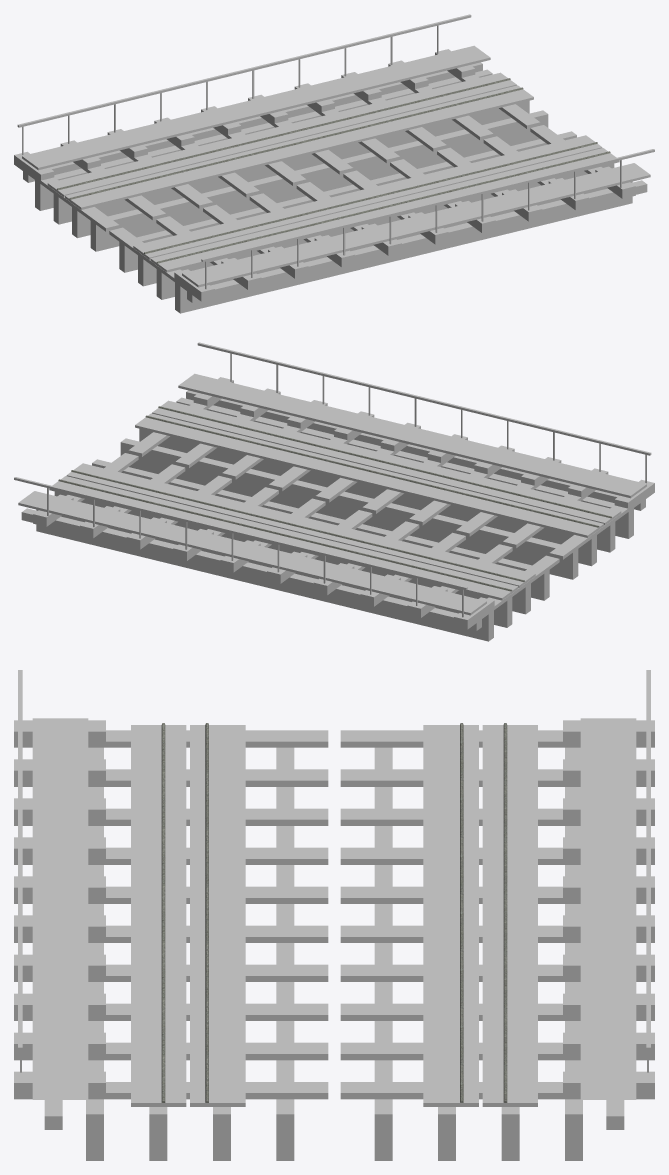
The model's file is DT_Railbridge_Straight_01.fbx.
The picture shows the model from 3 angles, top to bottom: view 1: azimuth 30°, elevation 25°; view 2: azimuth 150°, elevation 25°; view 3: azimuth 270°, elevation 25°; orthographic projection. The views are drawn at different scales.
Parts seen in each view (by area): view 1: DT_Railbridge_Straight_01; view 2: DT_Railbridge_Straight_01; view 3: DT_Railbridge_Straight_01.
Part boxes in pixels (x1,y1,x2,y2): DT_Railbridge_Straight_01: [14, 14, 654, 313]; DT_Railbridge_Straight_01: [14, 342, 654, 641]; DT_Railbridge_Straight_01: [14, 670, 654, 1160].
Size of the model in its own units: 2002 by 283 by 1427.
